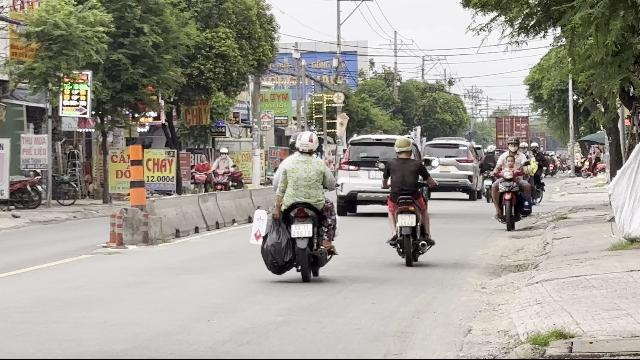helmet: (294, 131, 318, 155), (394, 136, 414, 156)
licenseplate: (292, 223, 312, 237), (397, 214, 415, 226)
motorcyclist: (256, 129, 340, 280), (382, 136, 436, 264)
